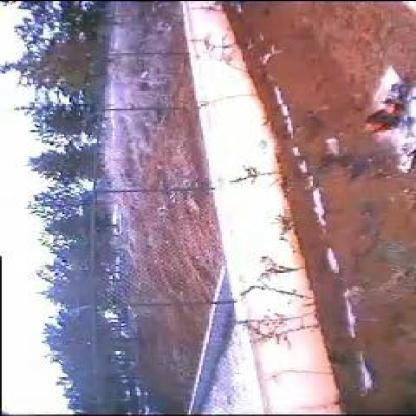foggia-v2-map80-epoch100 - v1 4323: (384, 100, 402, 112)
